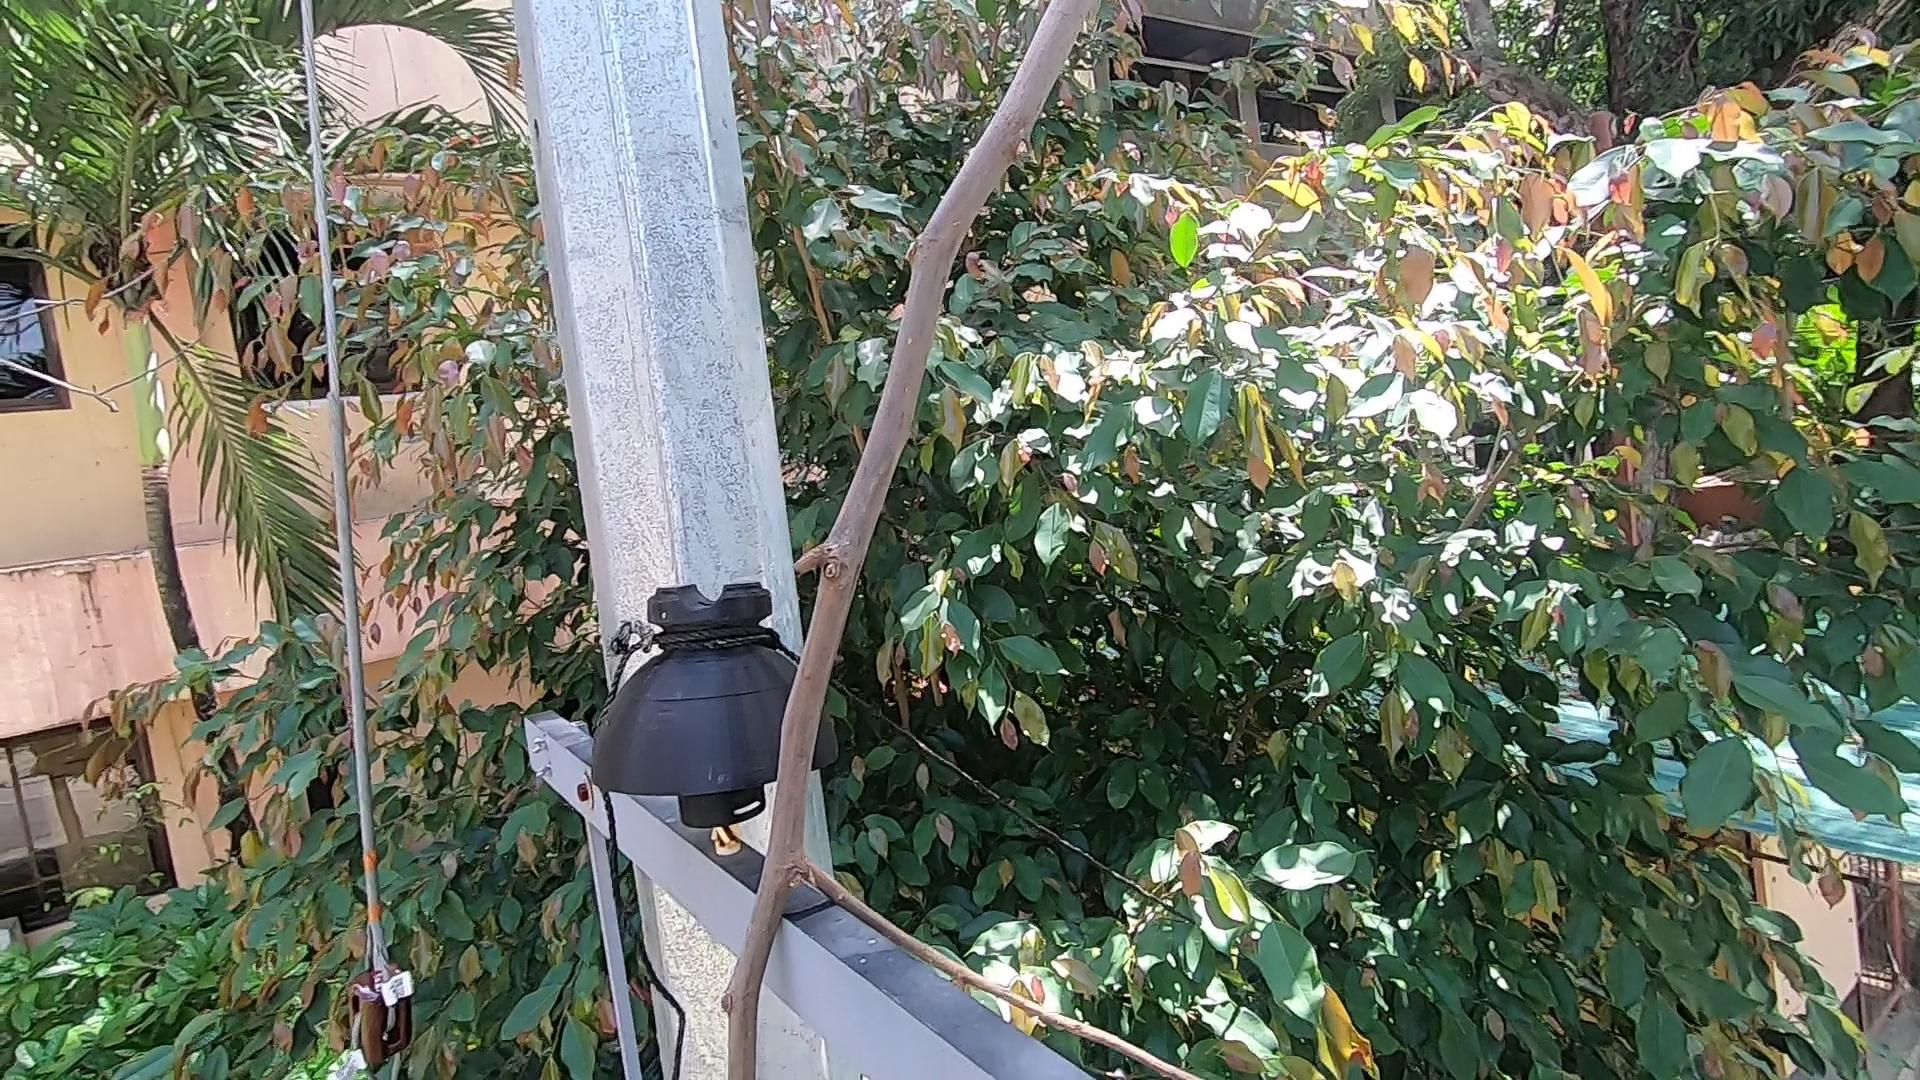tree branch: (713, 5, 1087, 1080)
